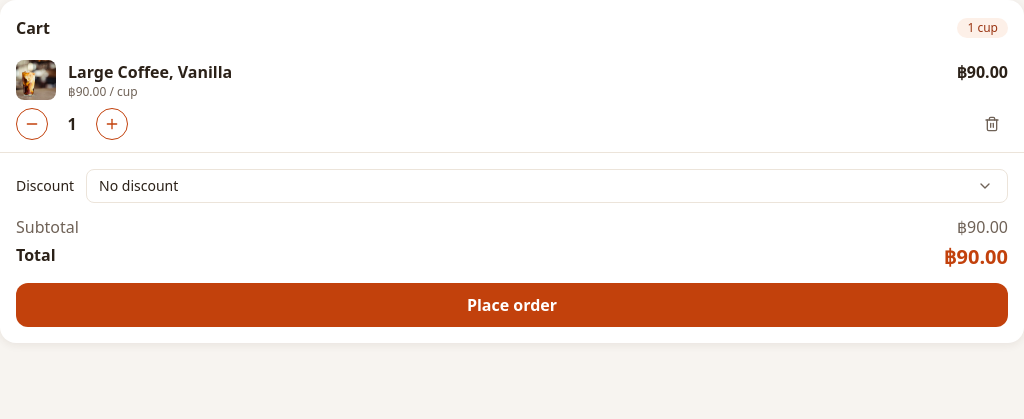
Test: CartPanel › clears a stale API error when the cart changes
Click the button "Place order" at (512, 305), box top-left (16, 283), bottom-right (1008, 327)
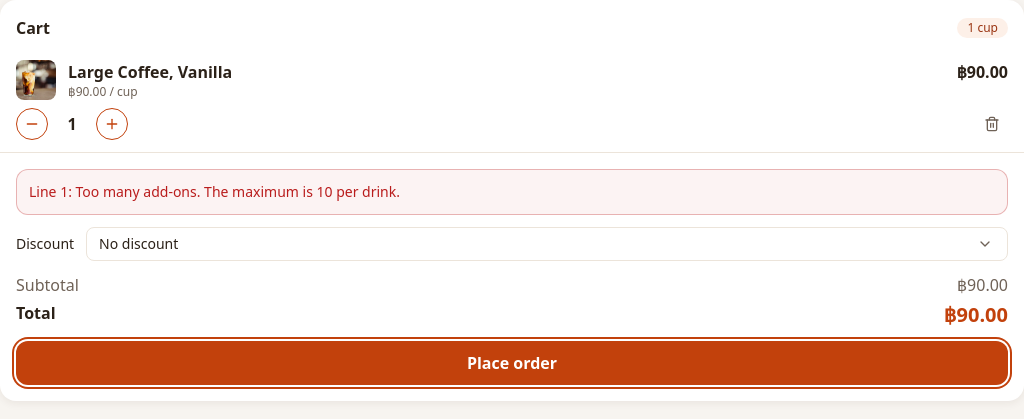
expect the list item "Line 1: Too many add-ons. The maximum is 10 per drink." is shown: met, box top-left (29, 182), bottom-right (400, 201)
Click the button named "Increase Large Coffee, Vanilla" at (112, 124), box top-left (96, 108), bottom-right (128, 140)
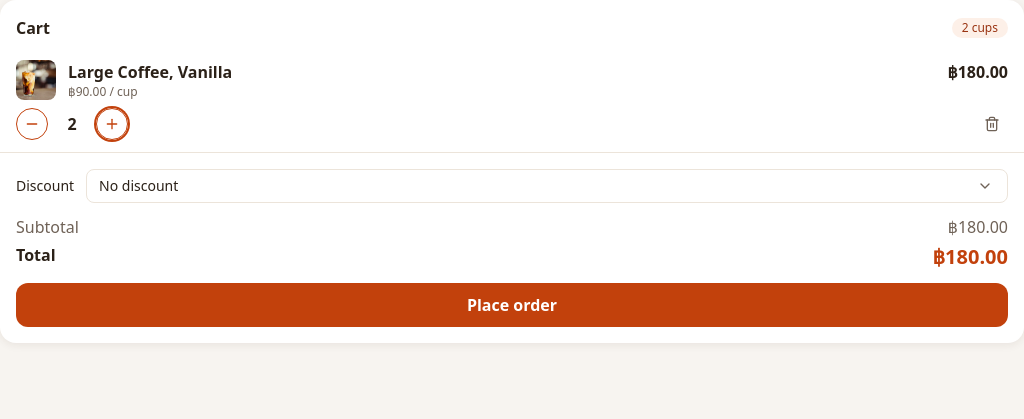
expect the list item "Too many add-ons. The maximum is 10 per drink." is gone: met
